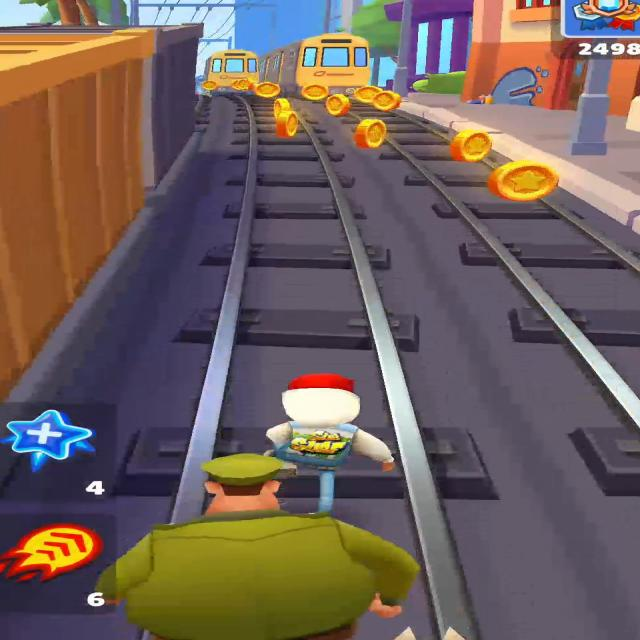police: (91, 454, 423, 640)
train: (0, 28, 201, 388), (259, 32, 372, 98), (207, 50, 263, 90)
